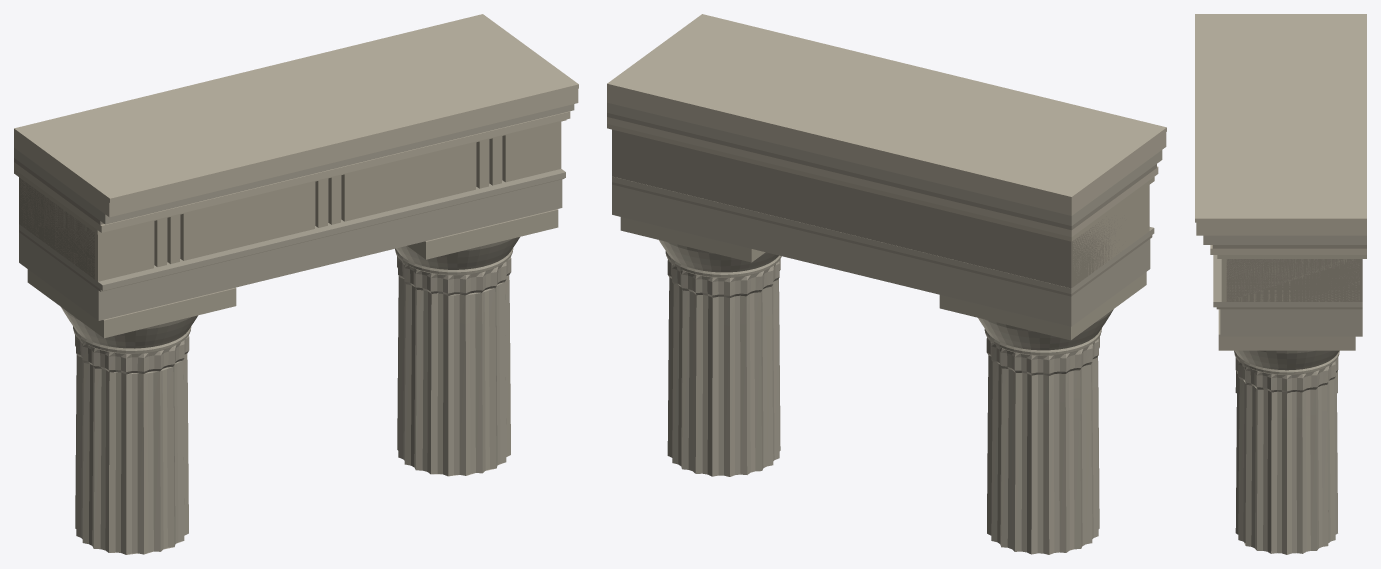
File: huangpu-fair-building-dianchi-fluted-capitals-lod.glb
3 views of the same model, side by side, from view 1: azimuth 30°, elevation 25°; view 2: azimuth 150°, elevation 25°; view 3: azimuth 270°, elevation 25° (orthographic). The views are drawn at different scales.
Parts seen in each view (by area): view 1: 公平大楼滇池路巨柱柱头与三槽檐带; view 2: 公平大楼滇池路巨柱柱头与三槽檐带; view 3: 公平大楼滇池路巨柱柱头与三槽檐带.
Part boxes in pixels (x1,y1,x2,y2): 公平大楼滇池路巨柱柱头与三槽檐带: (14, 14, 578, 554); 公平大楼滇池路巨柱柱头与三槽檐带: (607, 14, 1166, 554); 公平大楼滇池路巨柱柱头与三槽檐带: (1195, 14, 1366, 554).
Size of the model in its own units: 2.59 by 2.05 by 0.92.
